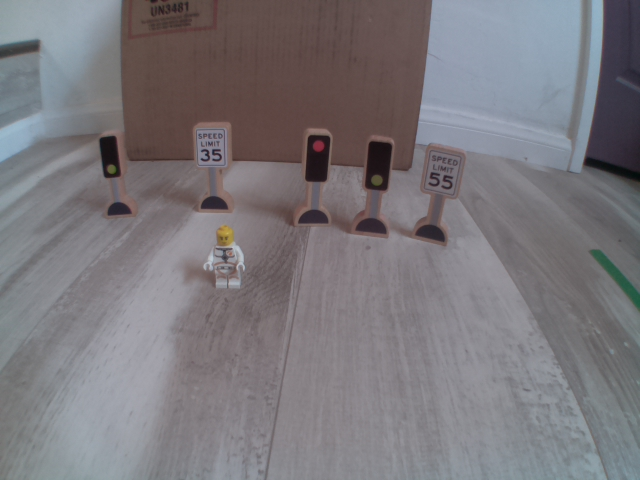Green Traffic Light: (354, 128, 401, 197), (88, 129, 135, 181)
Red Traffic Light: (296, 124, 335, 188)
Speed Limit 35: (186, 119, 236, 169)
Speed Limit 55: (421, 138, 479, 212)
person: (198, 225, 254, 293)
